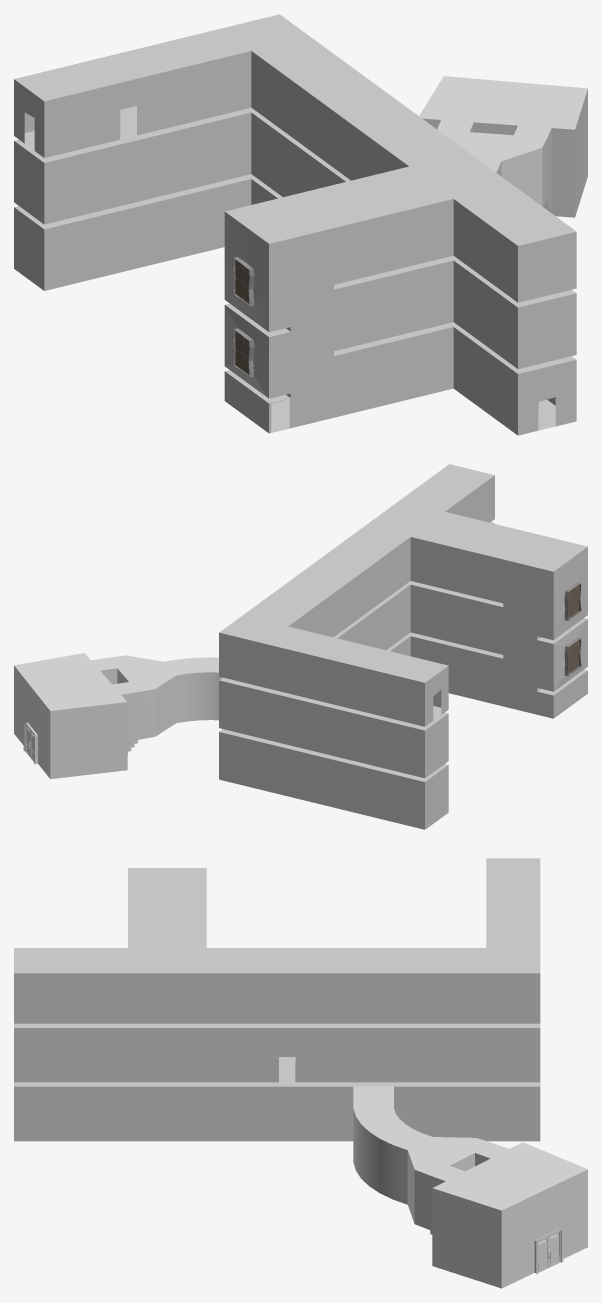
File: Staircase_002.fbx
3 views of the same model, one above another, from view 1: azimuth 30°, elevation 25°; view 2: azimuth 150°, elevation 25°; view 3: azimuth 270°, elevation 25° (orthographic). The views are drawn at different scales.
Visible parts, largest first — view 1: F_Staircase_01, F_StaircaseEntrance_01, Win2.002, F_Win_01; view 2: F_Staircase_01, F_StaircaseEntrance_01, F_Win_01, Win2.002, F_MainEntranceDoor_01; view 3: F_Staircase_01, F_StaircaseEntrance_01, F_MainEntranceDoor_01.
Part boxes in pixels (x1=…): F_Staircase_01: x1=14, y1=14, x2=576, y2=435; F_StaircaseEntrance_01: x1=419, y1=76, x2=587, y2=217; Win2.002: x1=232, y1=328, x2=254, y2=377; F_Win_01: x1=232, y1=257, x2=254, y2=306; F_Staircase_01: x1=219, y1=464, x2=587, y2=829; F_StaircaseEntrance_01: x1=14, y1=653, x2=222, y2=779; F_Win_01: x1=564, y1=582, x2=581, y2=620; Win2.002: x1=564, y1=637, x2=581, y2=675; F_MainEntranceDoor_01: x1=23, y1=720, x2=37, y2=764; F_Staircase_01: x1=14, y1=858, x2=540, y2=1141; F_StaircaseEntrance_01: x1=353, y1=1086, x2=587, y2=1288; F_MainEntranceDoor_01: x1=534, y1=1227, x2=563, y2=1274.
Bounding box in the file's own units: 4074 × 1523 × 4139.
